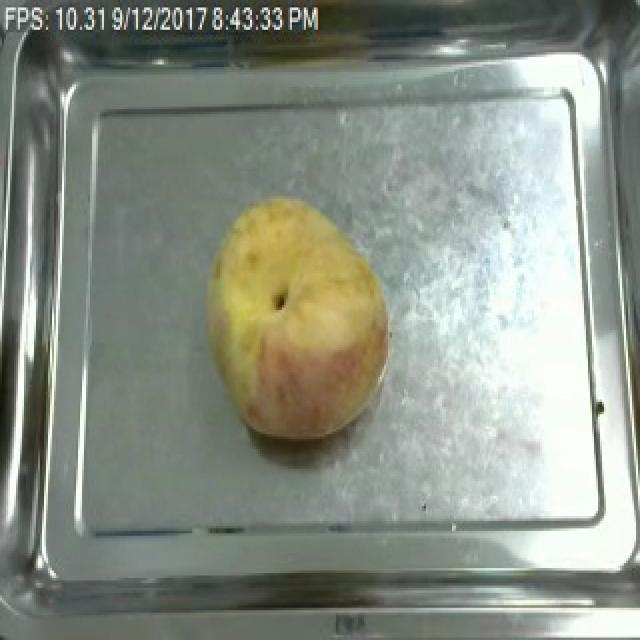Fruit: (198, 191, 400, 447)
